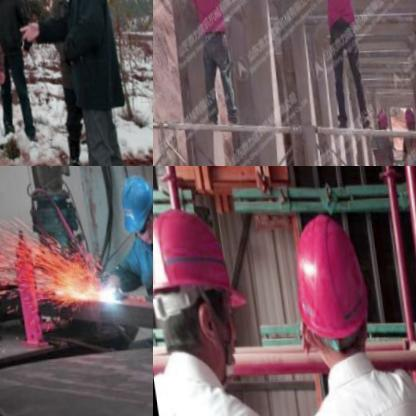helmet: (269, 197, 382, 385), (153, 186, 255, 389), (112, 169, 153, 251), (367, 99, 388, 139), (394, 105, 413, 135), (406, 133, 416, 166)
